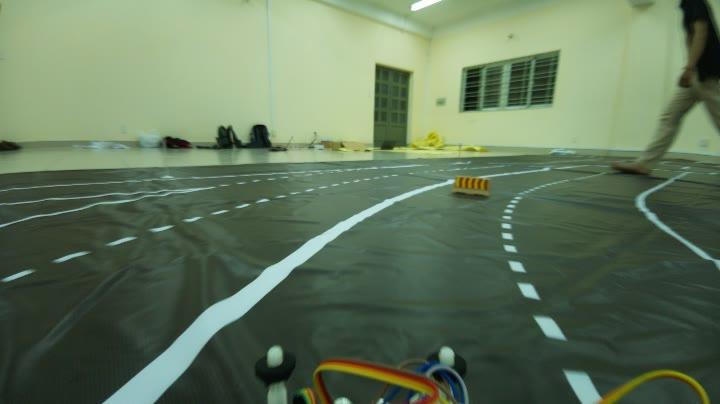roadblock: (450, 168, 498, 202)
